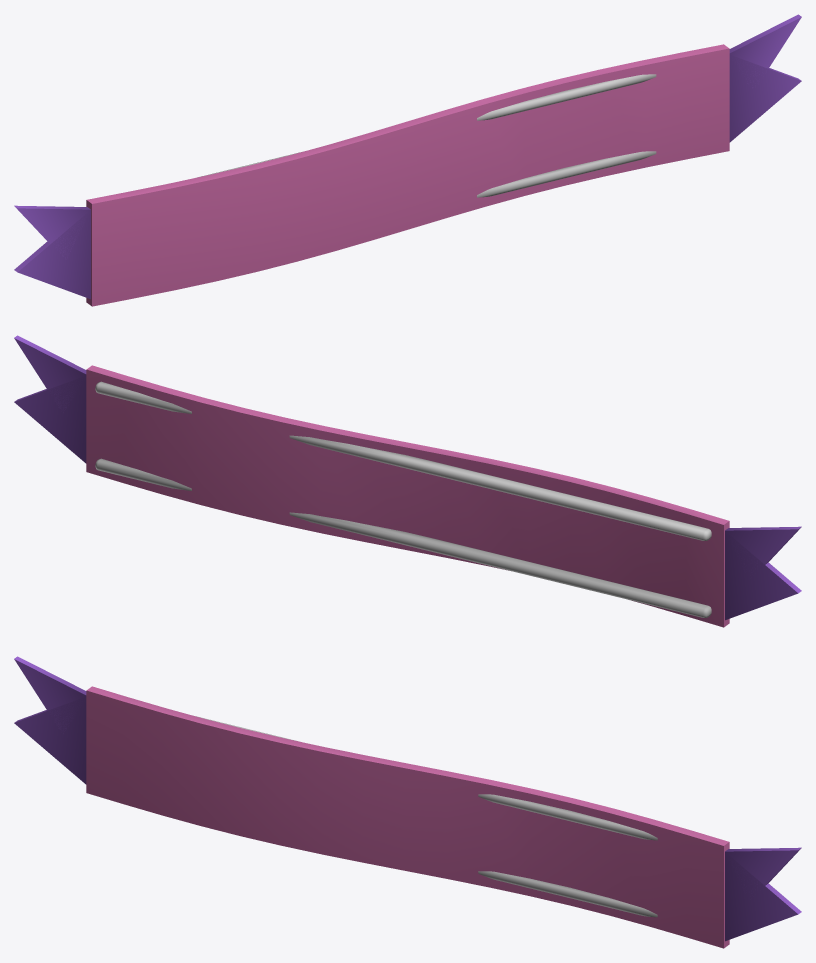
The model's file is ribbon_banner.glb.
3 views of the same model, one above another, from view 1: azimuth 30°, elevation 25°; view 2: azimuth 150°, elevation 25°; view 3: azimuth 330°, elevation 25° (orthographic).
Parts seen in each view (by area): view 1: ribbon_banner; view 2: ribbon_banner; view 3: ribbon_banner.
Part boxes in pixels (box(x1,y1,x2,y2)): ribbon_banner: box(14, 14, 801, 306); ribbon_banner: box(14, 335, 801, 627); ribbon_banner: box(14, 656, 801, 948).
Bounding box in the file's own units: 6.4 × 0.9 × 0.24.
